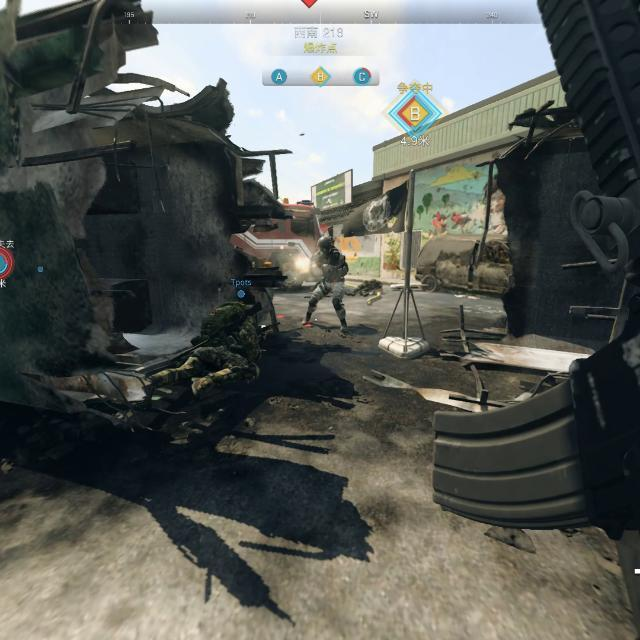MW2_body: (301, 223, 349, 335)
